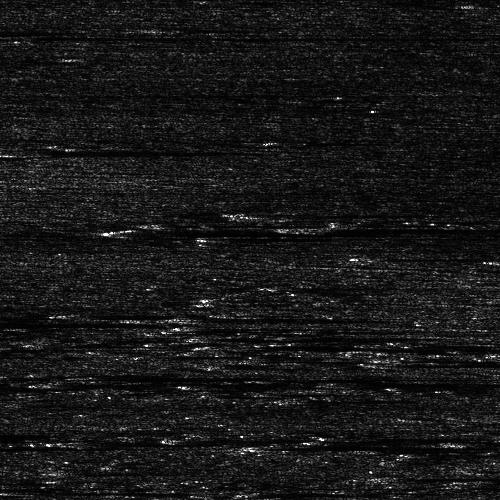rock: (215, 439, 350, 450), (214, 209, 307, 218), (67, 226, 140, 235), (138, 313, 211, 322), (127, 313, 200, 322), (262, 223, 335, 228), (180, 362, 243, 367), (0, 147, 36, 154), (197, 236, 238, 241)
shadow: (0, 382, 429, 391), (104, 226, 500, 235), (283, 439, 500, 450), (175, 313, 385, 322), (164, 313, 373, 322), (261, 209, 423, 218), (218, 236, 500, 241), (0, 147, 189, 154), (0, 487, 101, 500), (299, 223, 500, 228), (0, 26, 71, 35), (0, 320, 112, 325), (212, 362, 265, 367)
